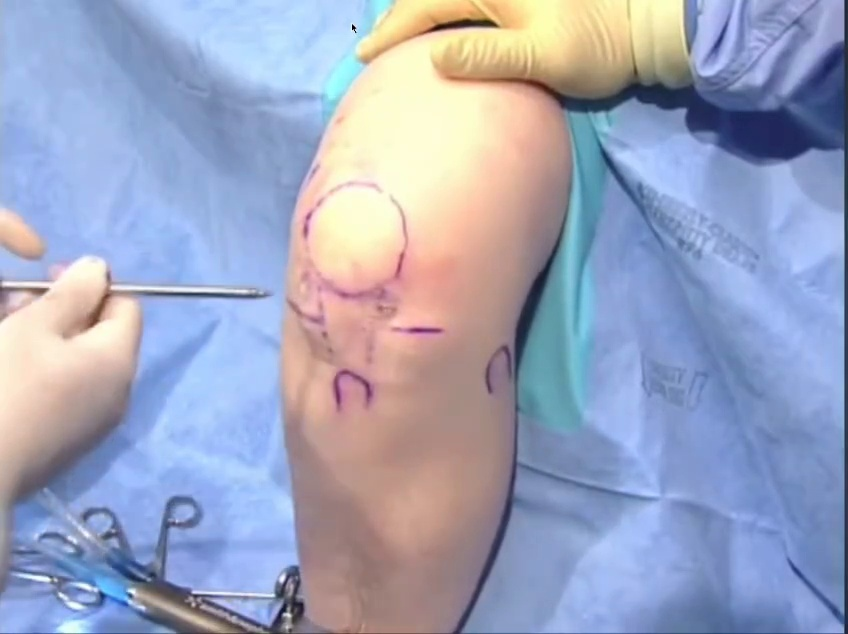arthroscope: (424, 12, 751, 634), (23, 138, 402, 491)
probe: (677, 121, 848, 634), (583, 0, 848, 116), (80, 149, 137, 238)
